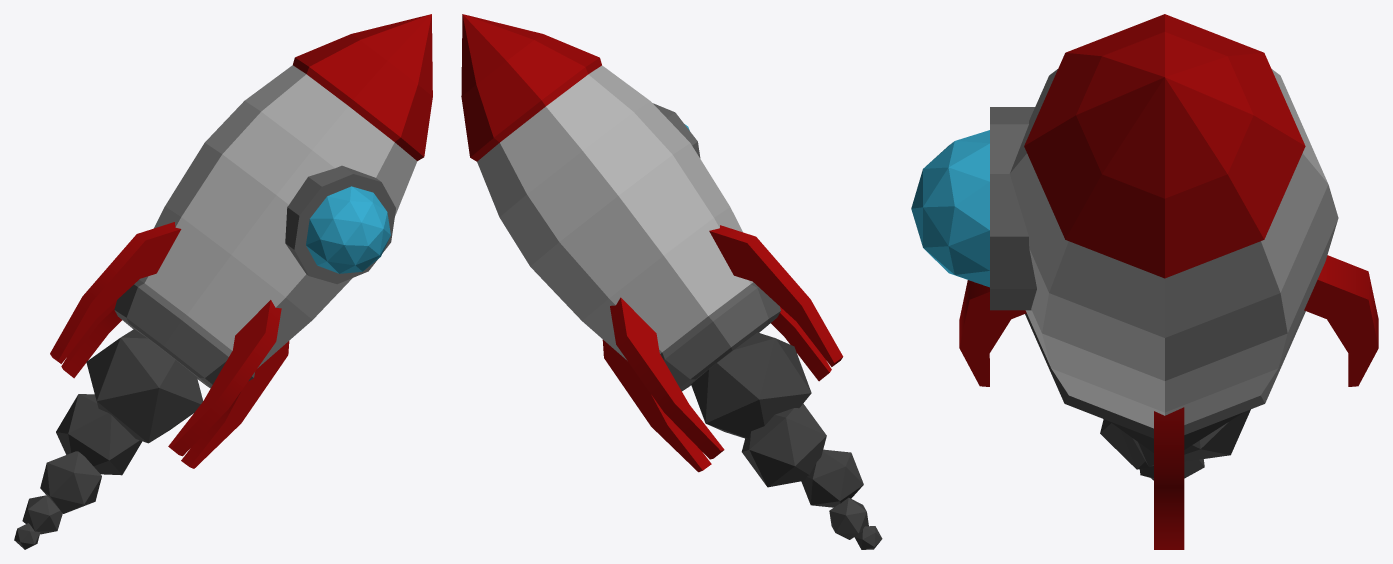
The model's file is Rocket Ship 01.fbx.
3 views of the same model, side by side, from view 1: azimuth 30°, elevation 25°; view 2: azimuth 150°, elevation 25°; view 3: azimuth 270°, elevation 25° (orthographic). The views are drawn at different scales.
Visible parts, largest first — view 1: Rocket Ship 01; view 2: Rocket Ship 01; view 3: Rocket Ship 01.
Part boxes in pixels (x1=…): Rocket Ship 01: x1=14, y1=14, x2=432, y2=549; Rocket Ship 01: x1=461, y1=14, x2=882, y2=549; Rocket Ship 01: x1=911, y1=14, x2=1378, y2=549.
Bounding box in the file's own units: 135 × 136 × 77.15.
